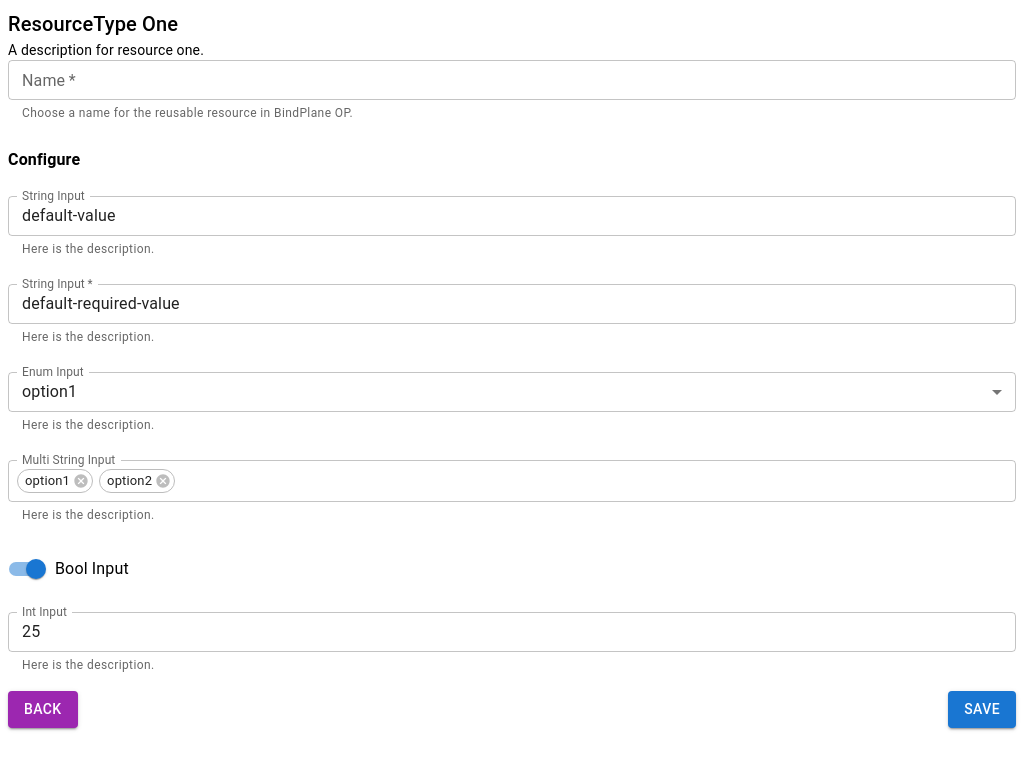
ResourceForm component › disables save button when name field has an error
The image size is (1024, 768).
# this is an invalid name and should make the save button disabled
Type "dest-" into the field with test id "name-field" at (512, 80), box [8,60,1016,100]
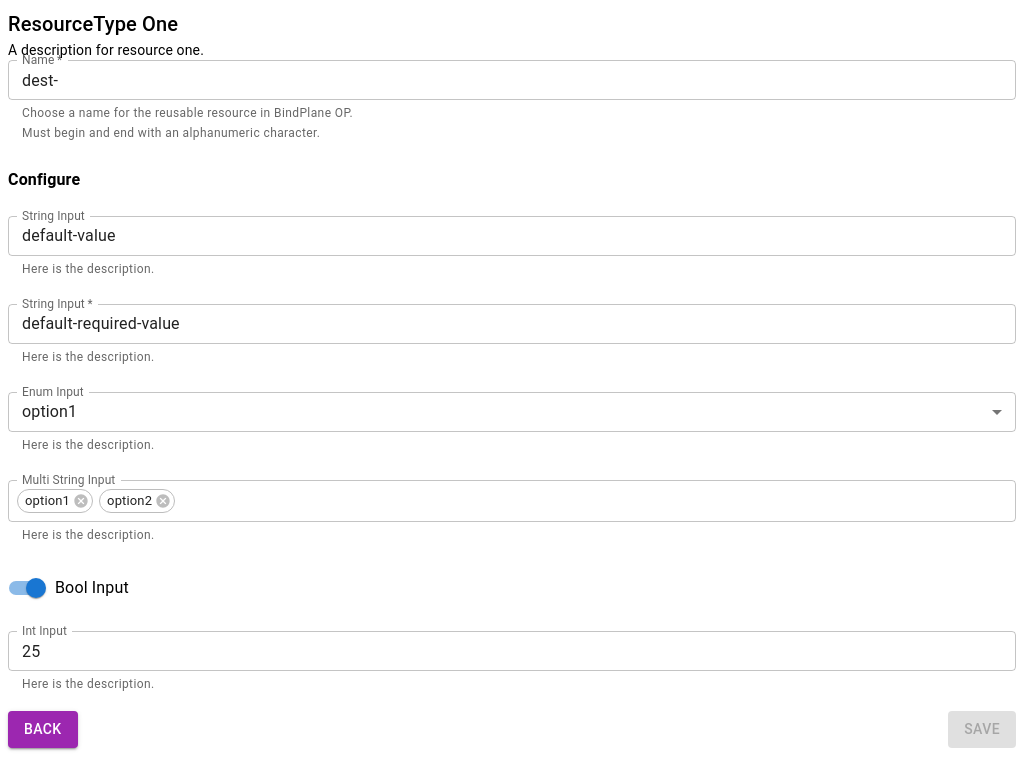
Expected: the button with test id "resource-form-save" is disabled, [948,711,1016,748]
